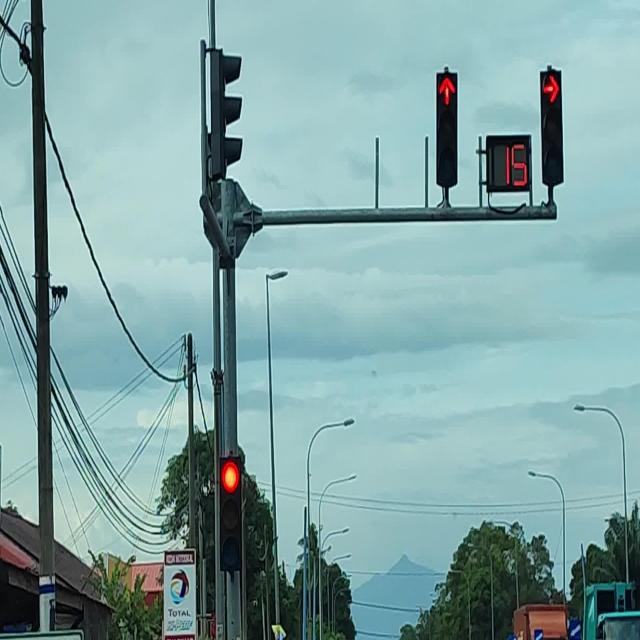traffic light: (201, 178, 263, 267), (208, 47, 243, 180), (540, 70, 564, 187), (485, 134, 532, 193), (435, 71, 458, 189), (219, 456, 242, 572)
